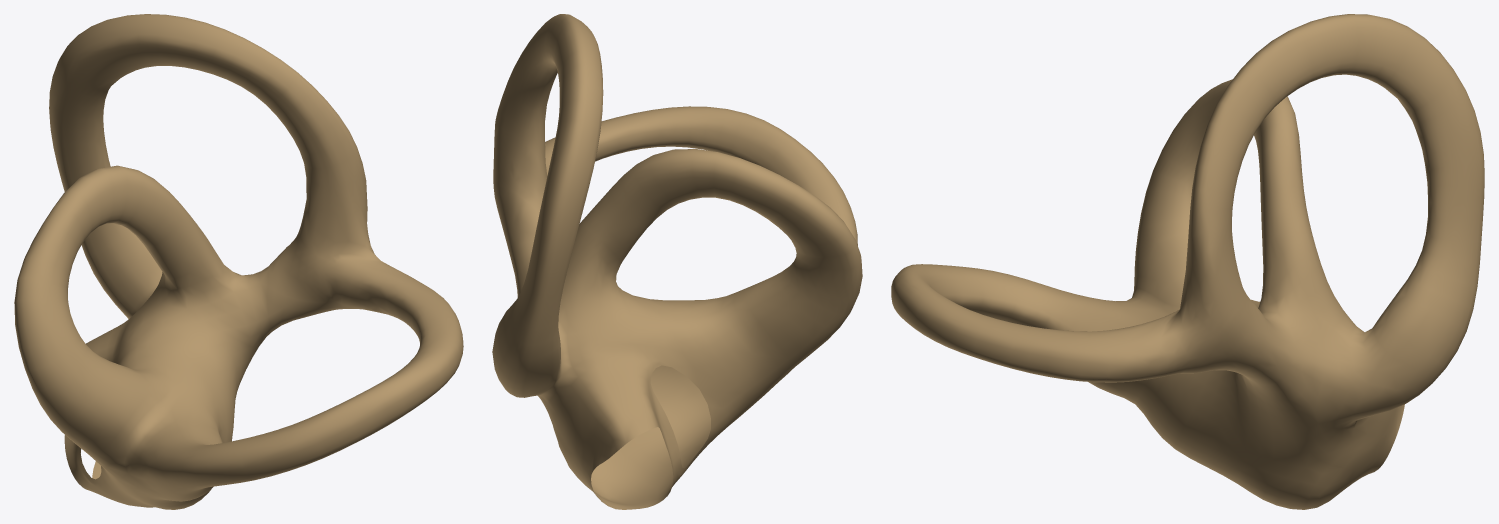
3 renders of one model, left to right at view 1: azimuth 30°, elevation 25°; view 2: azimuth 150°, elevation 25°; view 3: azimuth 270°, elevation 25°, orthographic. The views are drawn at different scales.
Visible parts, largest first — view 1: 右侧前庭; view 2: 右侧前庭; view 3: 右侧前庭.
Boxes of the visible parts, x1,y1,x2,y2 form: 右侧前庭: (14,14,463,509); 右侧前庭: (492,14,862,509); 右侧前庭: (891,14,1484,509).
Size of the model in its own units: 0.0151 by 0.0177 by 0.0189.
